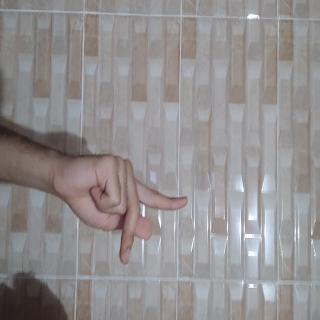DHAA: (107, 173, 204, 320)
